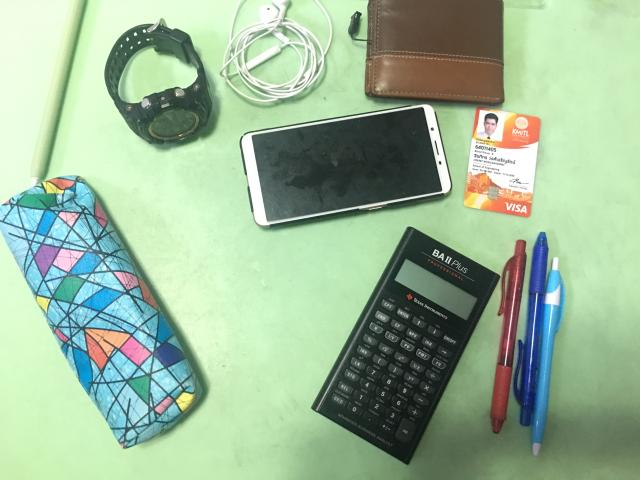Mobile phone: (240, 105, 451, 226)
Pen: (515, 232, 565, 455), (490, 240, 526, 432)
Wallet: (365, 0, 504, 105)
Watch: (105, 20, 212, 144)
wire: (220, 0, 332, 102)
